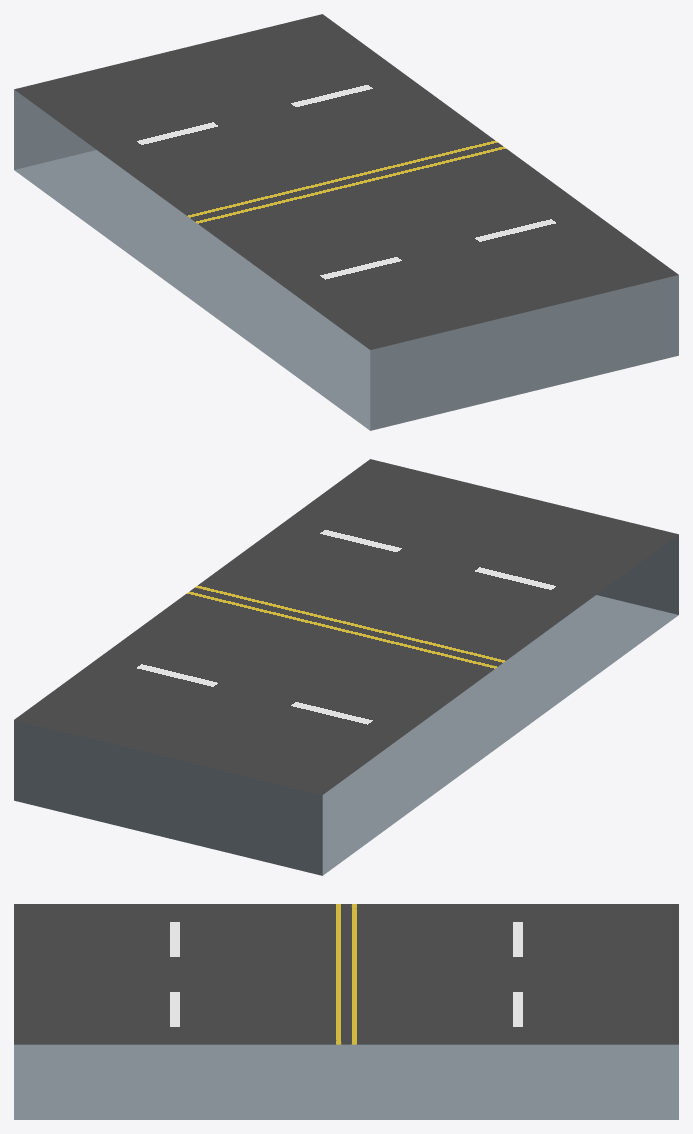
File: Highway_Straight.fbx
The picture shows the model from 3 angles, top to bottom: view 1: azimuth 30°, elevation 25°; view 2: azimuth 150°, elevation 25°; view 3: azimuth 270°, elevation 25°; orthographic projection. The views are drawn at different scales.
Parts seen in each view (by area): view 1: Highway_Straight; view 2: Highway_Straight; view 3: Highway_Straight.
Part boxes in pixels (left/top/right/bottom): Highway_Straight: left=14, top=14, right=678, bottom=430; Highway_Straight: left=14, top=459, right=678, bottom=875; Highway_Straight: left=14, top=904, right=678, bottom=1119.
Size of the model in its own units: 400 by 100 by 800.
